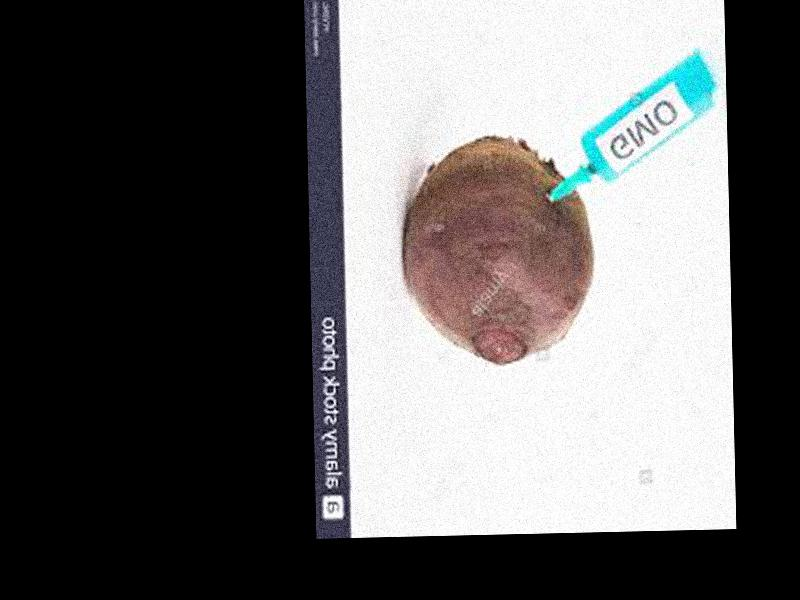Beet: (399, 138, 596, 365)
